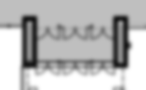double door: (90, 60, 116, 77), (62, 60, 88, 76), (36, 24, 61, 40), (62, 25, 88, 40), (36, 60, 60, 76), (90, 26, 115, 40)
